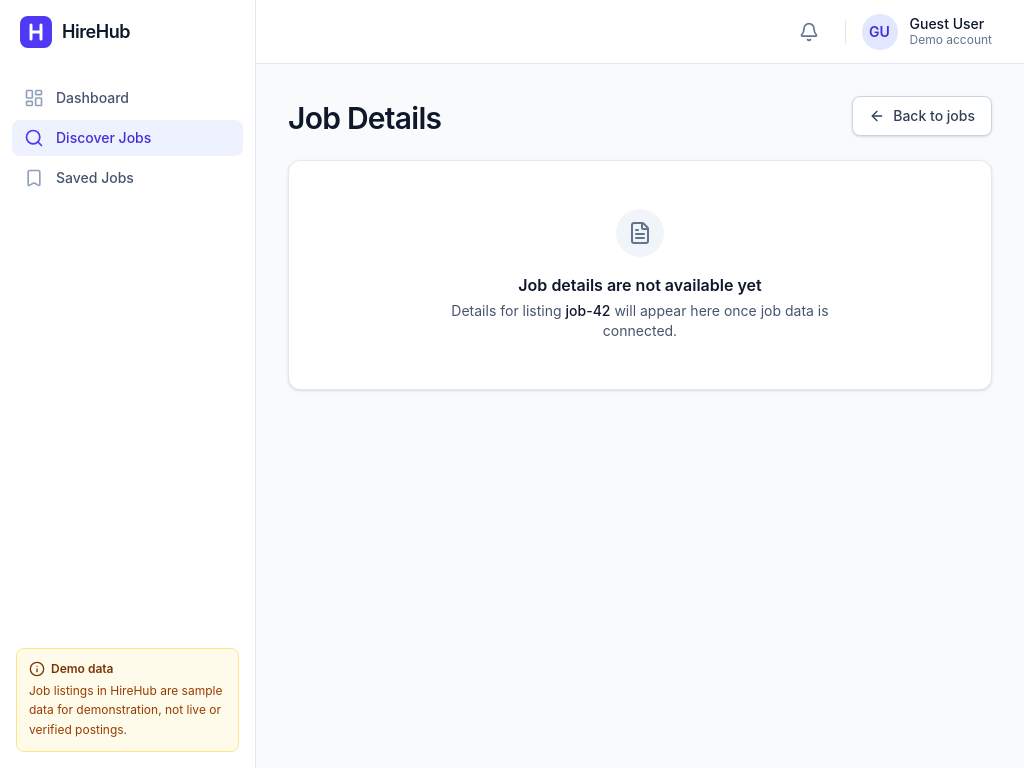
it: app routing › links from job details back to the job list
The image size is (1024, 768).
Click the link "Back to jobs".
click(922, 116)  # box [852,96,992,136]
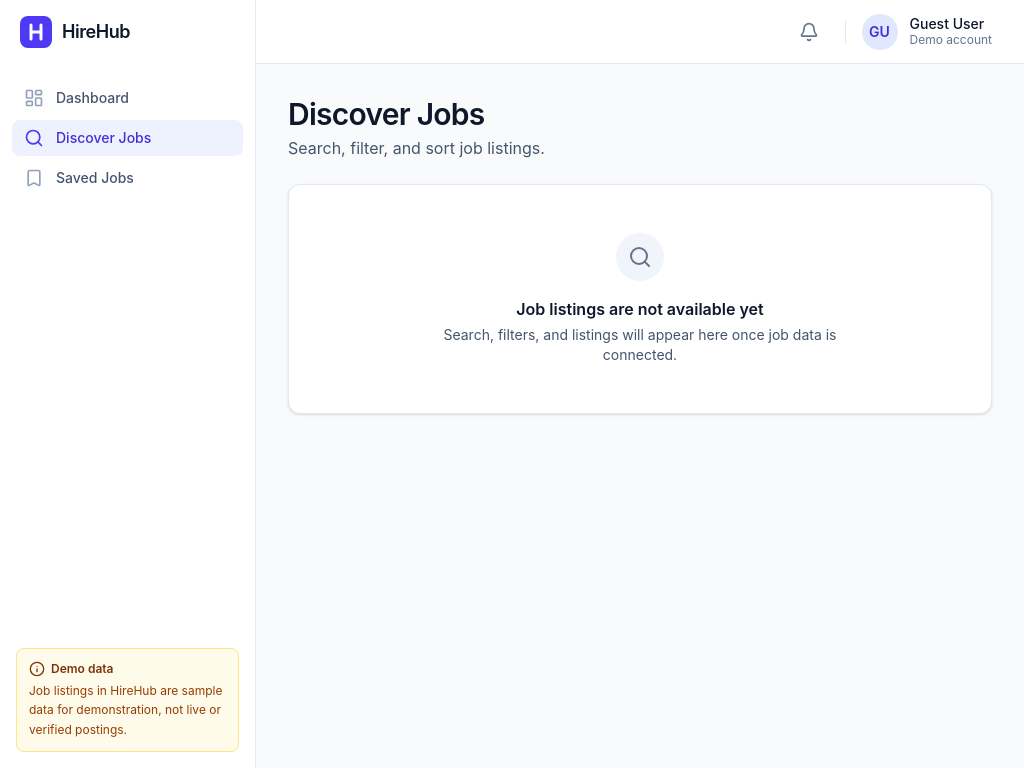
Check: the heading "Discover Jobs" is shown, box [288,96,484,132]
